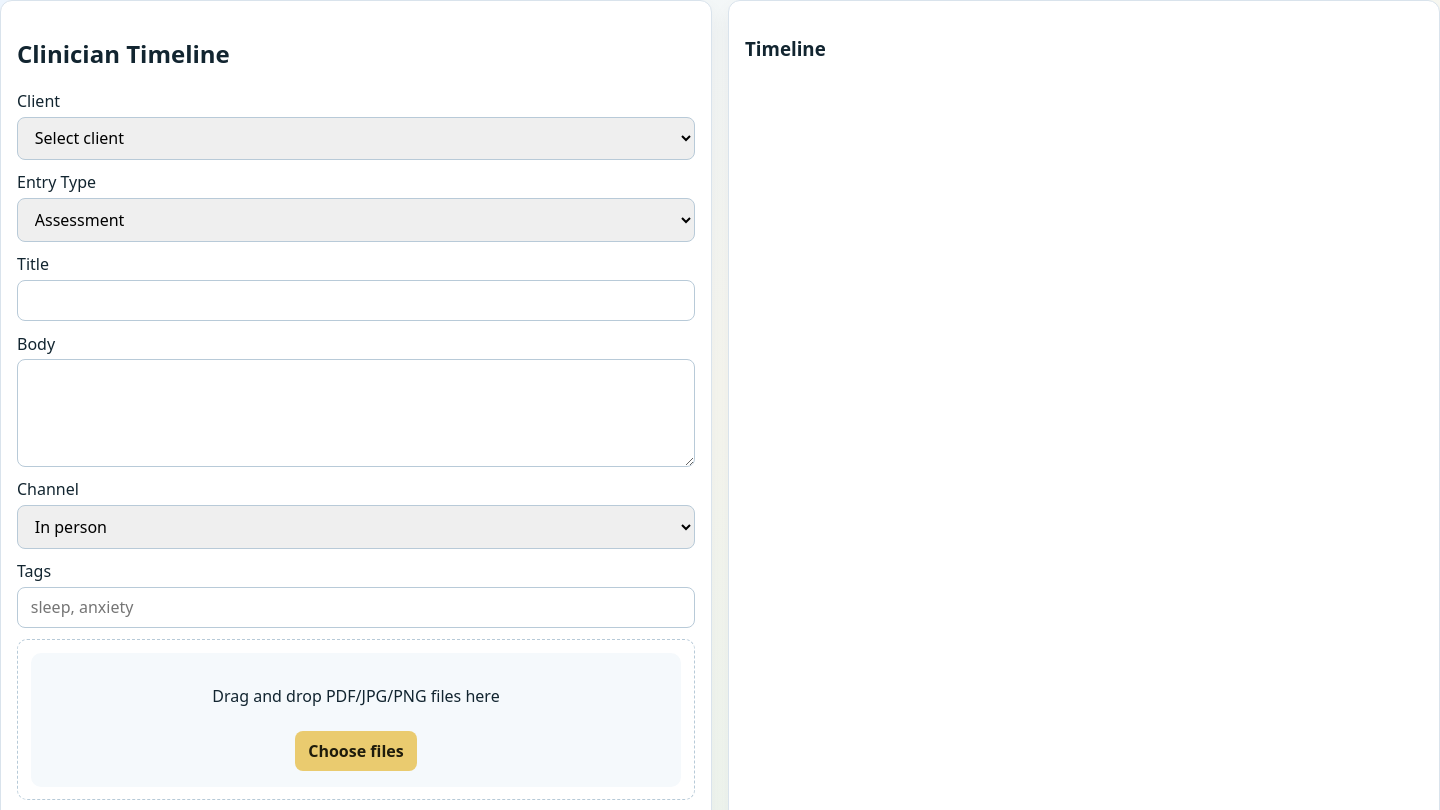
Test: ClinicianModule — timeline › shows empty message when timeline is empty
Select "Alice Smith" in the dropdown labelled "Client" at (356, 138), box 17,117 -> 695,160
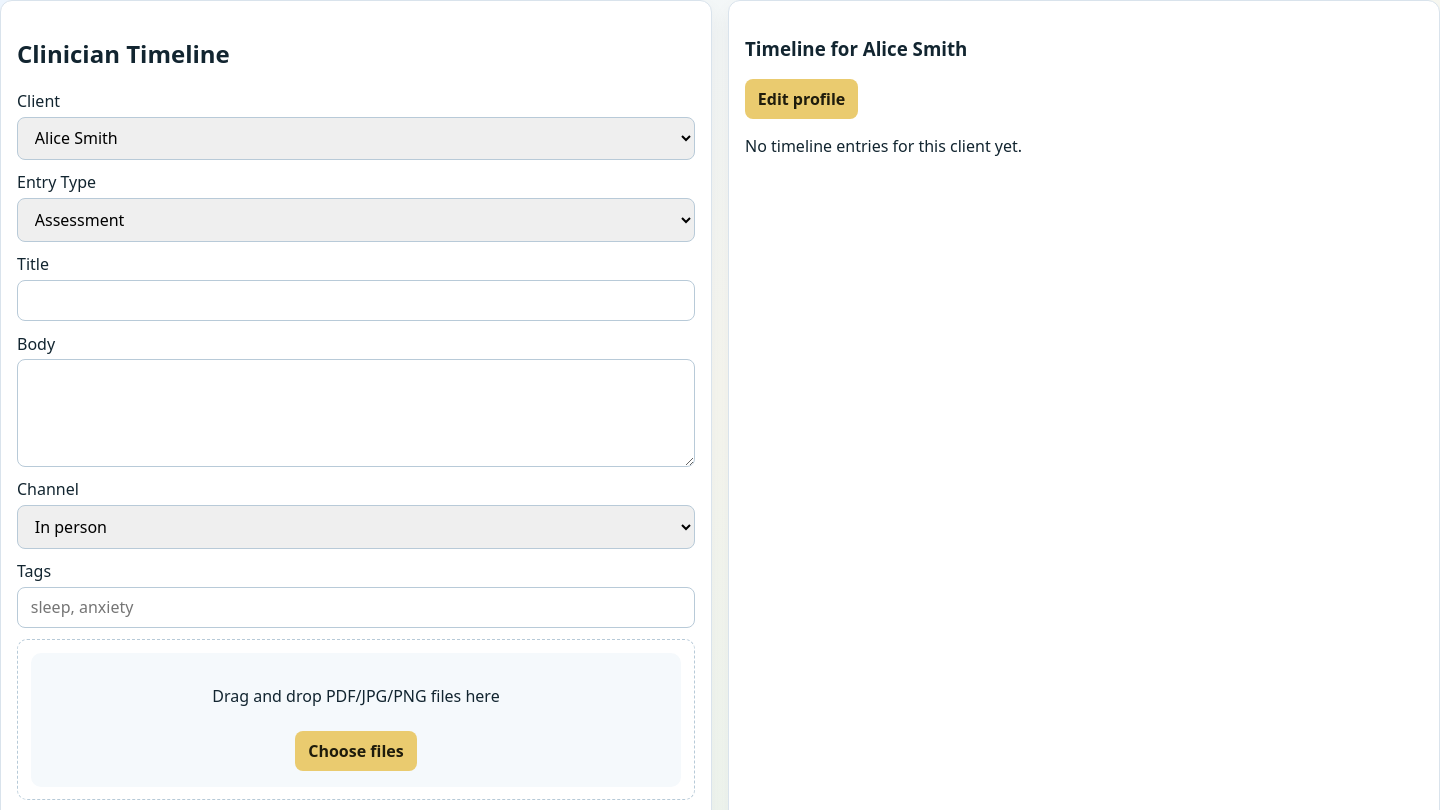
Result: the text "No timeline entries for this client yet." is shown at 745,135 -> 1022,157
